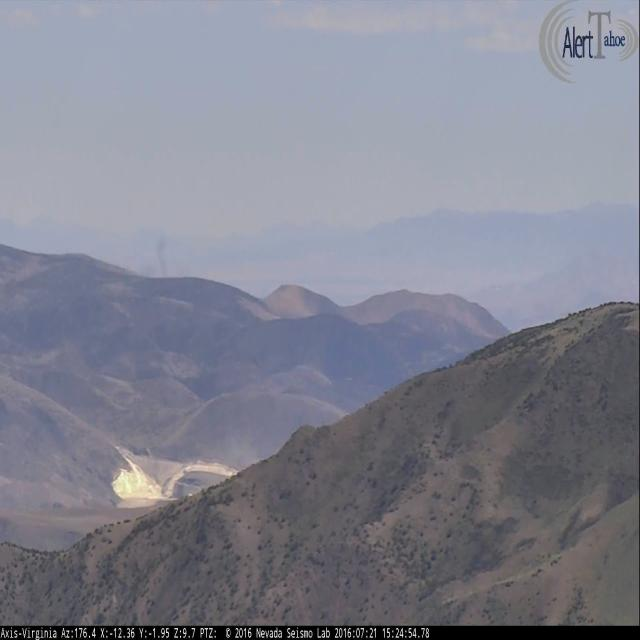smoke: (156, 239, 170, 284)
